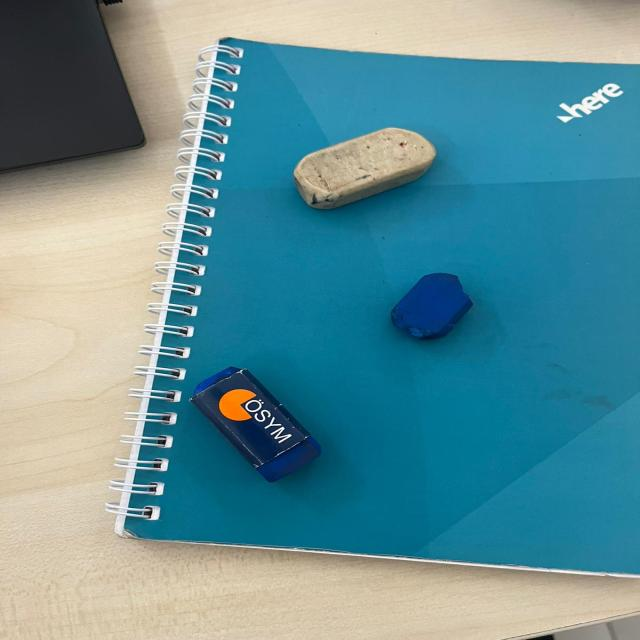eraser: (183, 364, 332, 487), (285, 119, 456, 216), (384, 268, 471, 350)
